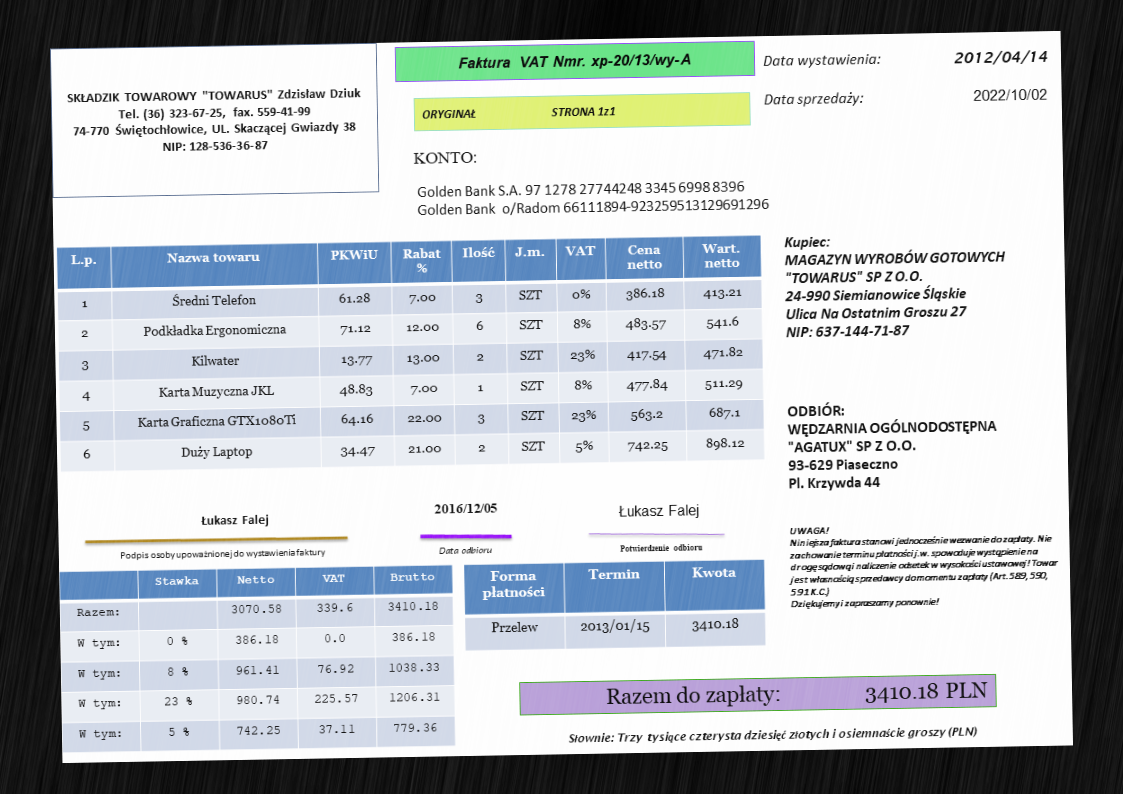Table: (55, 234, 766, 473), (60, 565, 456, 752), (462, 557, 768, 652)
TextBox: (782, 230, 1009, 339), (787, 521, 1061, 610), (65, 85, 365, 156), (786, 398, 998, 492), (415, 177, 773, 218), (605, 679, 989, 709), (567, 724, 981, 745), (454, 49, 693, 74), (117, 545, 327, 563), (419, 103, 617, 121), (762, 49, 883, 69), (763, 89, 867, 109), (951, 46, 1049, 65), (616, 502, 700, 522), (972, 86, 1050, 104), (431, 499, 498, 518), (199, 512, 271, 529), (413, 148, 478, 166), (619, 541, 703, 554), (437, 543, 494, 558)
